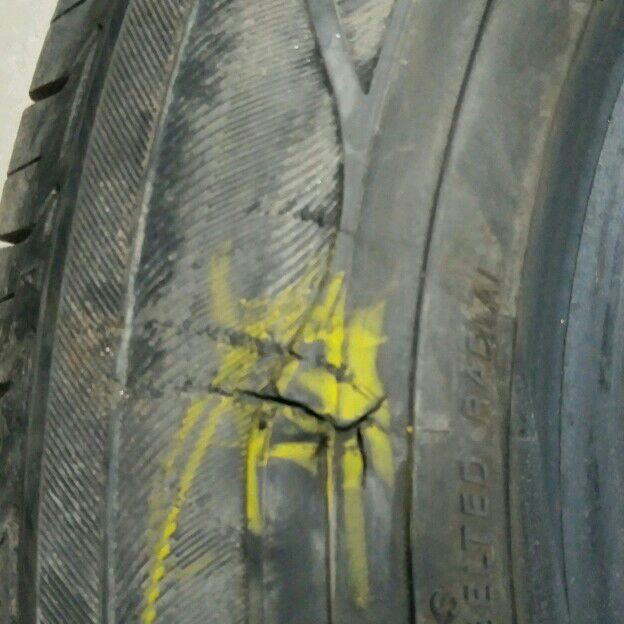cut: (198, 384, 389, 498)
